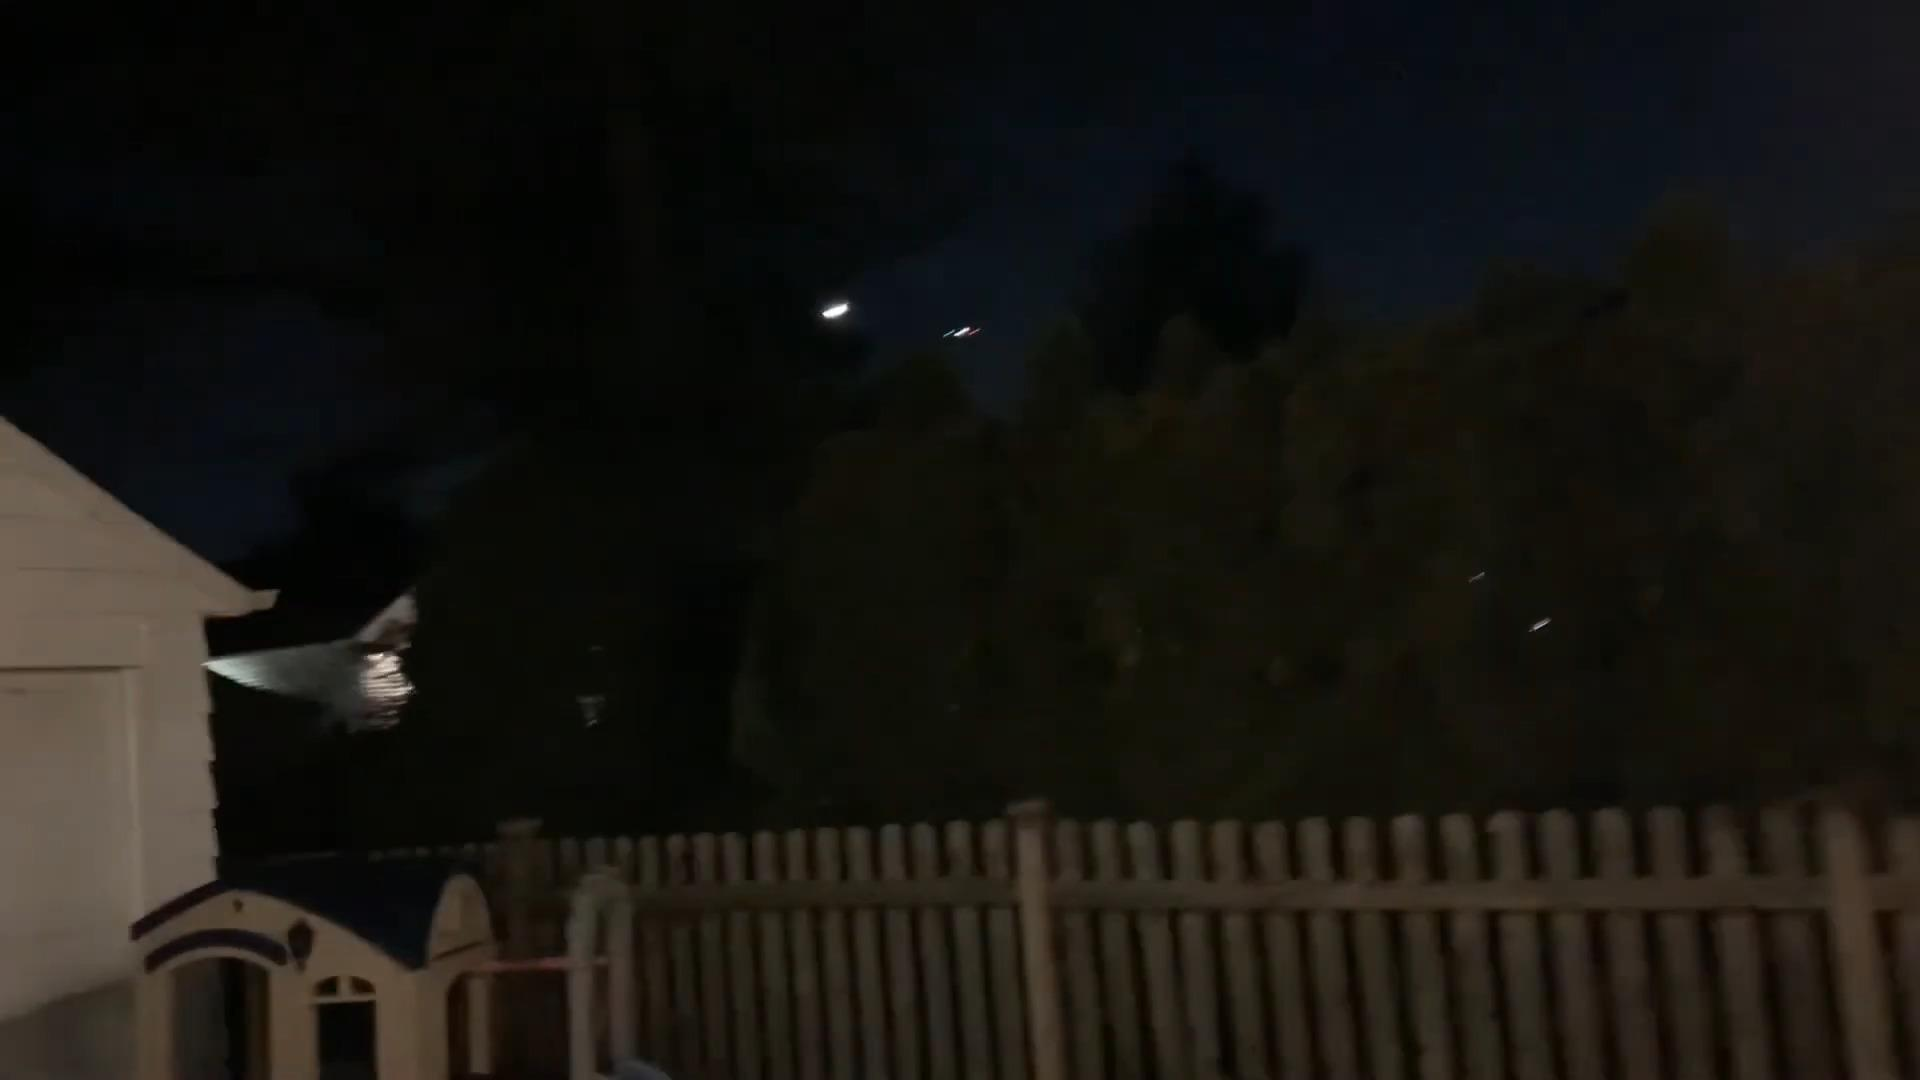Plane: (930, 316, 994, 360)
